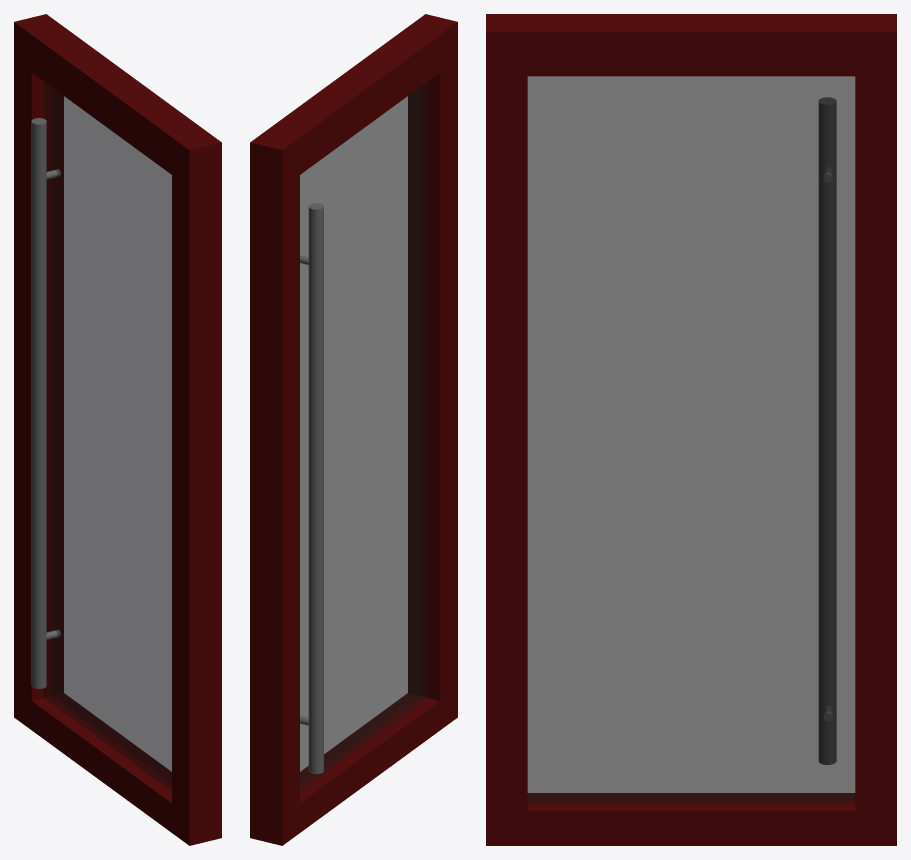
File: tabakTuer.dae
3 views of the same model, side by side, from view 1: azimuth 30°, elevation 25°; view 2: azimuth 150°, elevation 25°; view 3: azimuth 270°, elevation 25° (orthographic). The views are drawn at different scales.
Parts seen in each view (by area): view 1: door1, pCube1, pCylinder1; view 2: door1, pCube1, pCylinder1; view 3: pCube1, door1, pCylinder1.
Boxes of the visible parts, <box> form: door1: <box>14,14,221,845</box>; pCube1: <box>44,82,171,790</box>; pCylinder1: <box>31,118,46,688</box>; door1: <box>250,14,457,845</box>; pCube1: <box>300,82,427,790</box>; pCylinder1: <box>308,203,323,773</box>; pCube1: <box>527,76,855,803</box>; door1: <box>486,14,896,845</box>; pCylinder1: <box>819,97,836,764</box>.
Bounding box in the file's own units: 0.1302 × 1.99 × 0.9108.
